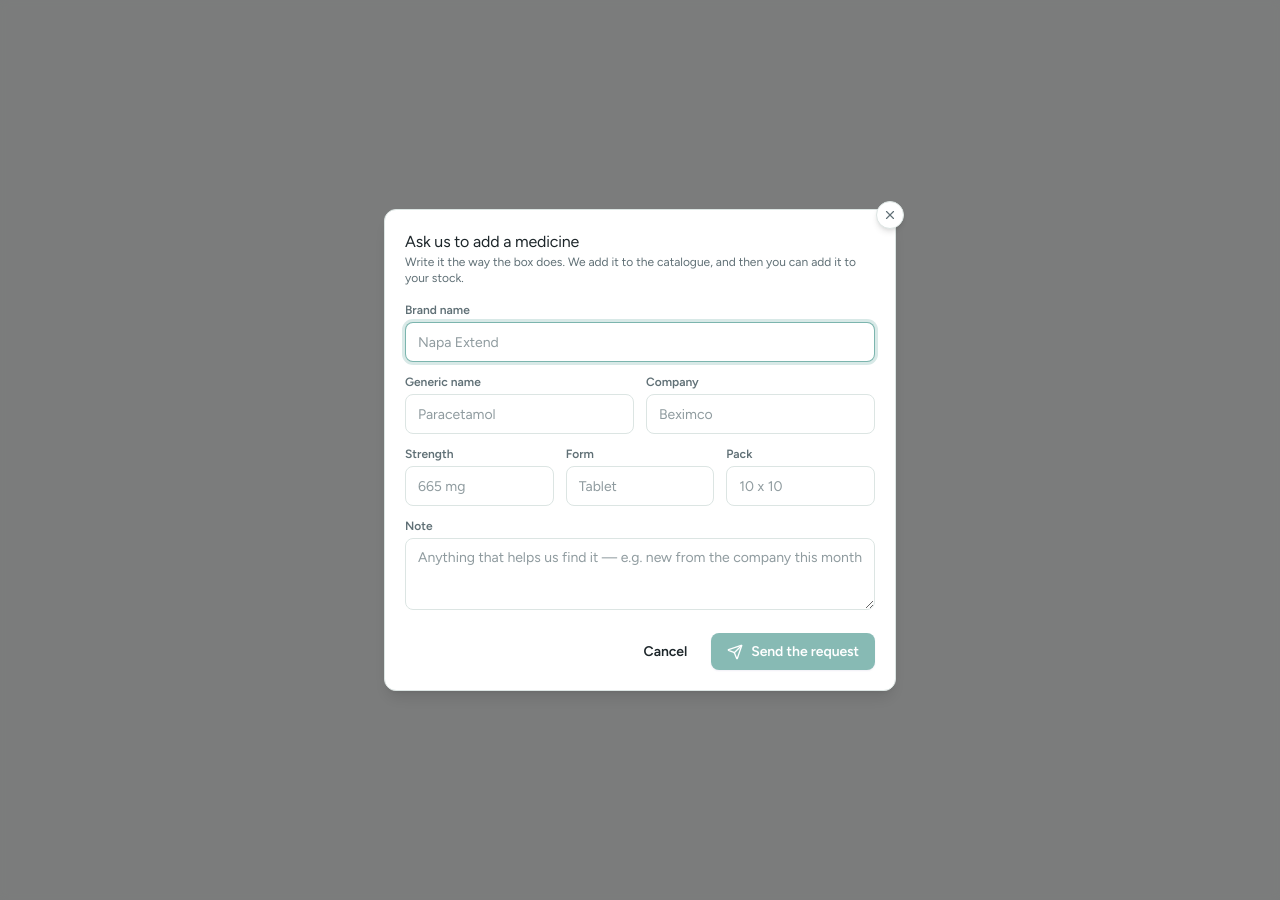
AskForMedicine › will not send without a brand name
Expected: the button "Send the request" is disabled, [711,633,875,670]
Step 1. Type "Napa" into the field labelled "Brand name" → x=640, y=342, box [405,322,875,362]
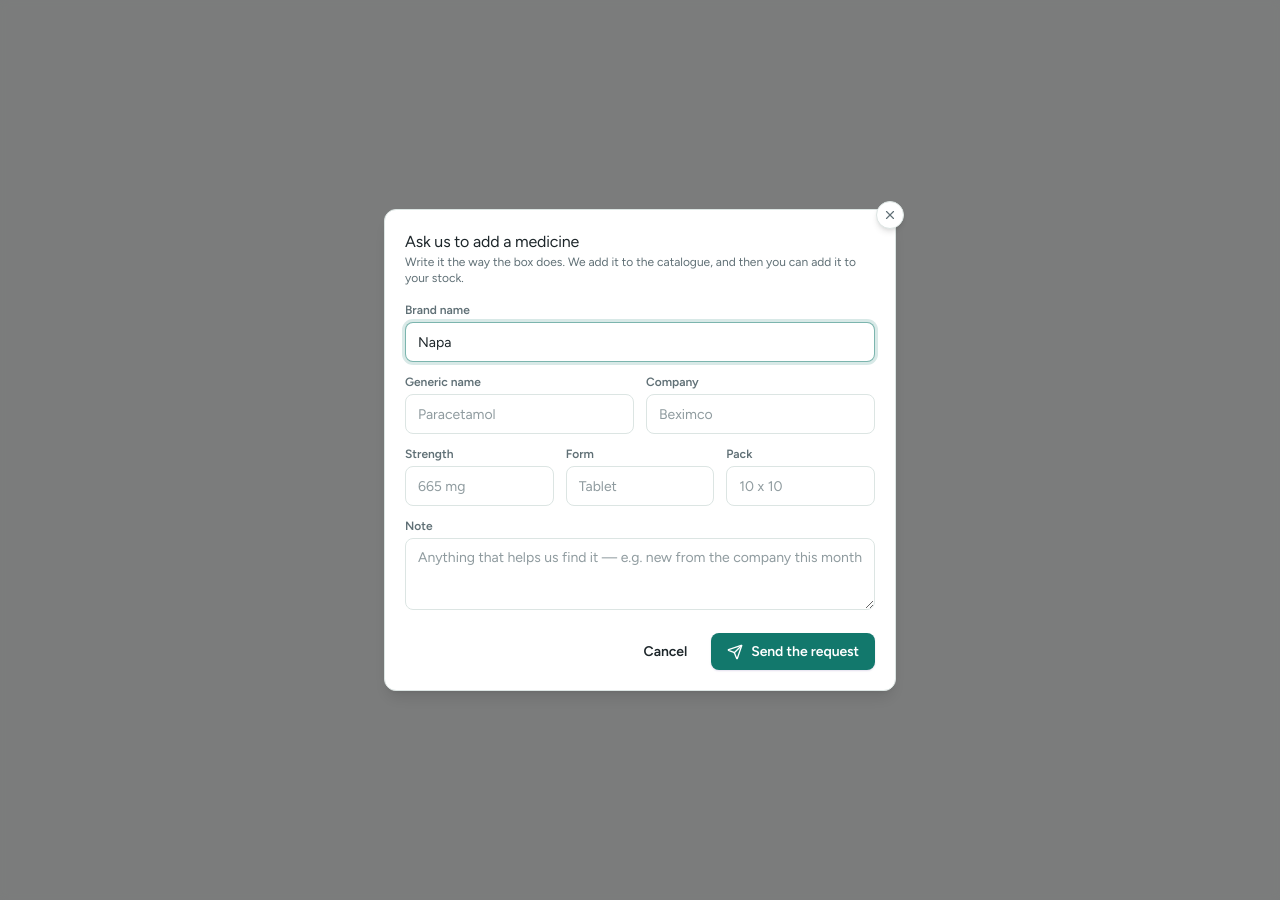
Expected: the button "Send the request" is enabled, [711,633,875,670]
